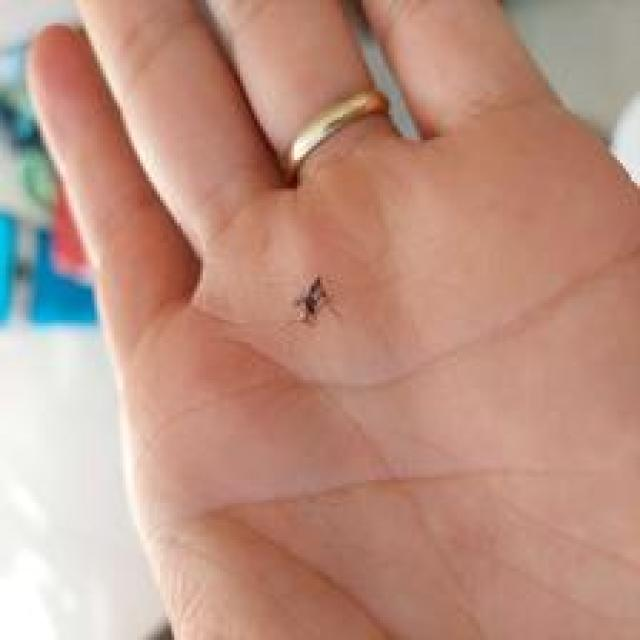Aedes albopictus: (292, 274, 334, 326)
